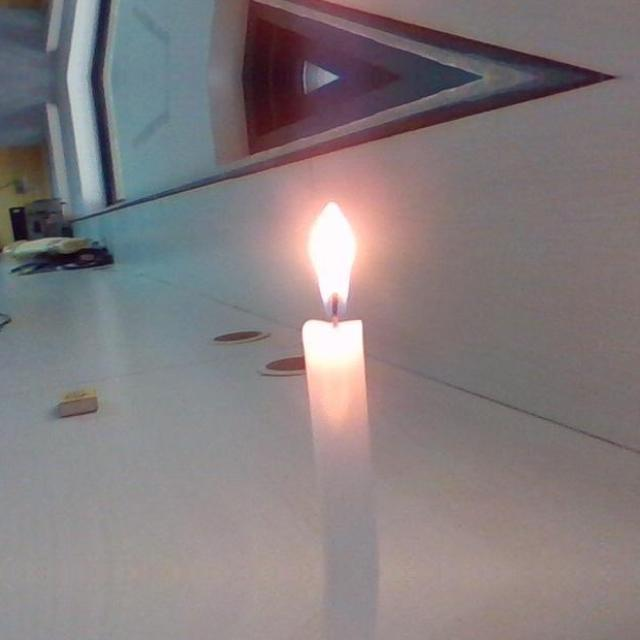smoke: (304, 200, 372, 318)
